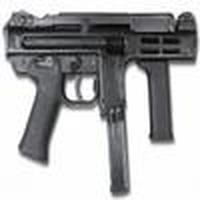gun: (1, 10, 199, 148)
